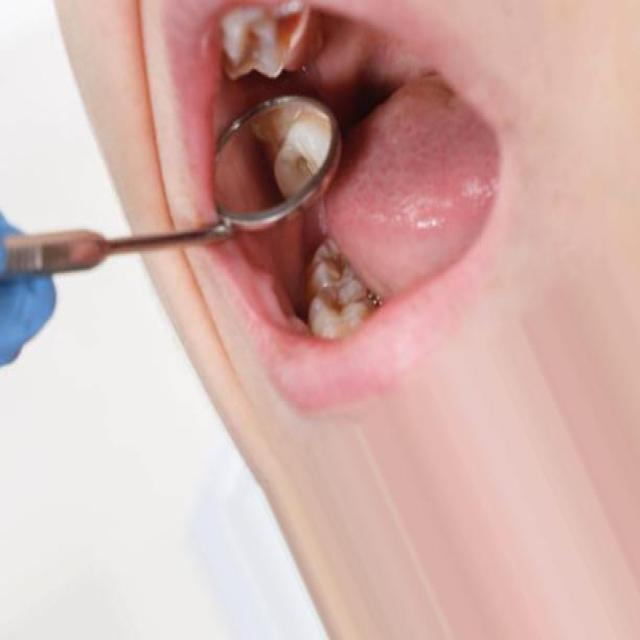caries: (238, 12, 303, 71), (316, 240, 354, 324), (280, 140, 319, 198)
